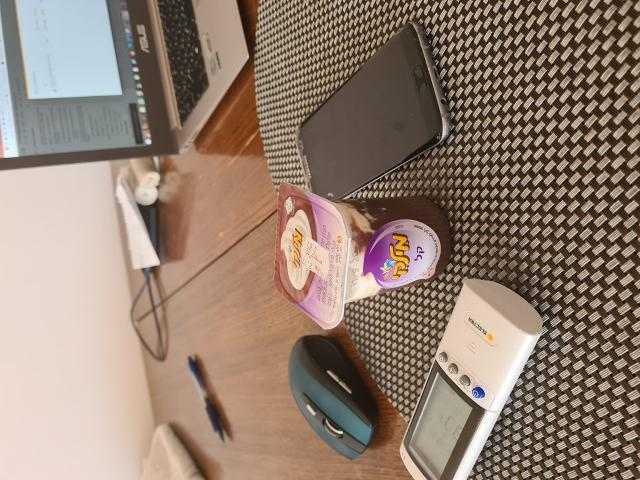milky: (272, 179, 450, 312)
